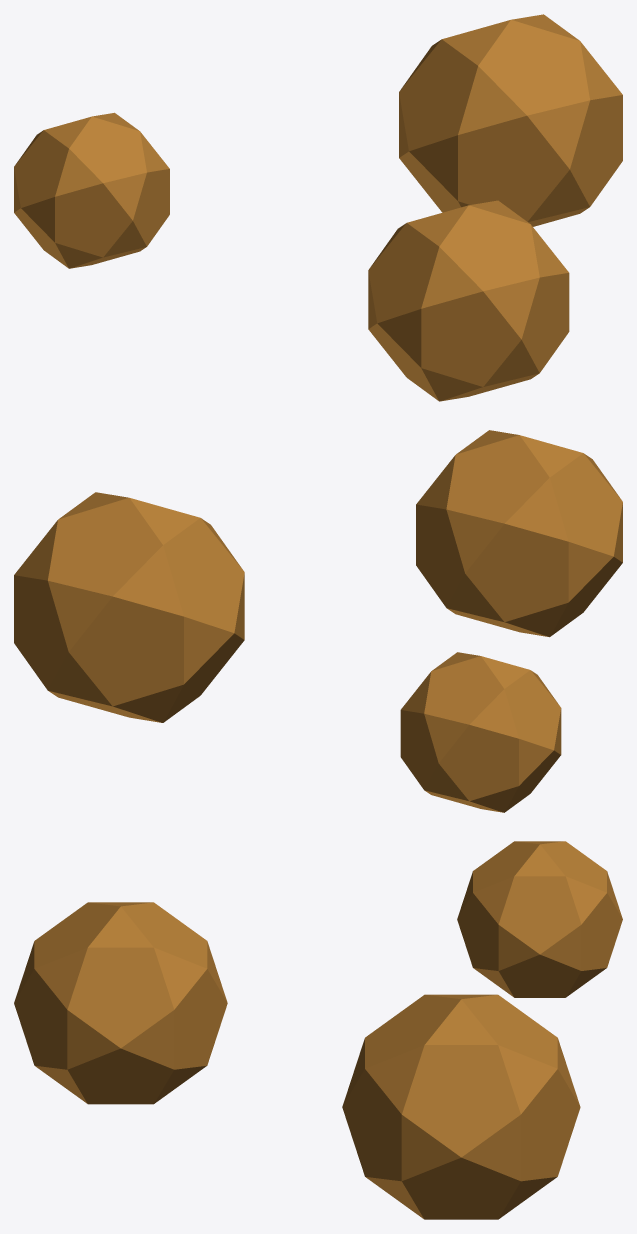
Rendered from Grain.FBX.
3 renders of one model, top to bottom at view 1: azimuth 30°, elevation 25°; view 2: azimuth 150°, elevation 25°; view 3: azimuth 270°, elevation 25°, orthographic. The views are drawn at different scales.
Visible parts, largest first — view 1: Hedra003, Hedra001, Hedra002; view 2: Hedra003, Hedra001, Hedra002; view 3: Hedra003, Hedra001, Hedra002.
Boxes of the visible parts, box(x1,y1,x2,y2) form: Hedra003: box(399, 14, 622, 226); Hedra001: box(368, 200, 569, 401); Hedra002: box(14, 112, 169, 268); Hedra003: box(14, 492, 244, 722); Hedra001: box(416, 430, 622, 637); Hedra002: box(400, 652, 561, 812); Hedra003: box(342, 994, 580, 1219); Hedra001: box(14, 902, 227, 1104); Hedra002: box(457, 841, 622, 997).
Bounding box in the file's own units: 47.71 × 17.6 × 44.96.
